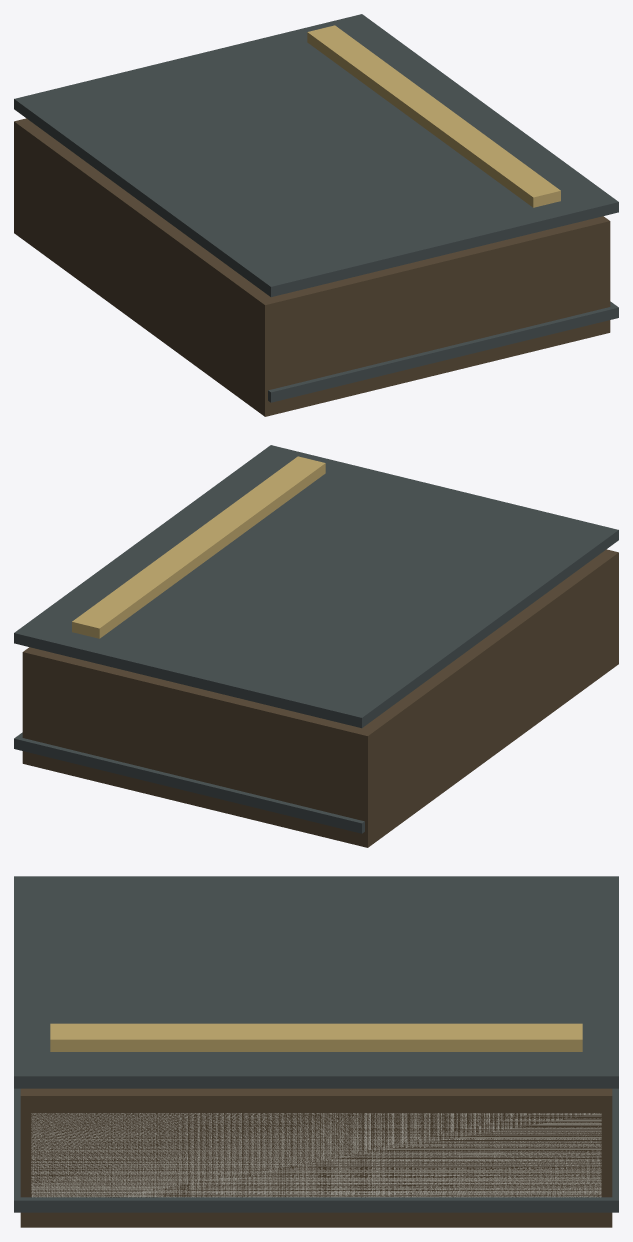
The model's file is blender_ghost_writing_book_3.glb.
The picture shows the model from 3 angles, top to bottom: view 1: azimuth 30°, elevation 25°; view 2: azimuth 150°, elevation 25°; view 3: azimuth 270°, elevation 25°; orthographic projection. The views are drawn at different scales.
Visible parts, largest first — view 1: blender_ghost_writing_book_3; view 2: blender_ghost_writing_book_3; view 3: blender_ghost_writing_book_3.
Boxes of the visible parts, x1,y1,x2,y2 form: blender_ghost_writing_book_3: (14, 14, 618, 416); blender_ghost_writing_book_3: (14, 445, 618, 847); blender_ghost_writing_book_3: (14, 876, 618, 1227).
Bounding box in the file's own units: 0.1775 × 0.0685 × 0.225.
1 material, 1 textured.
